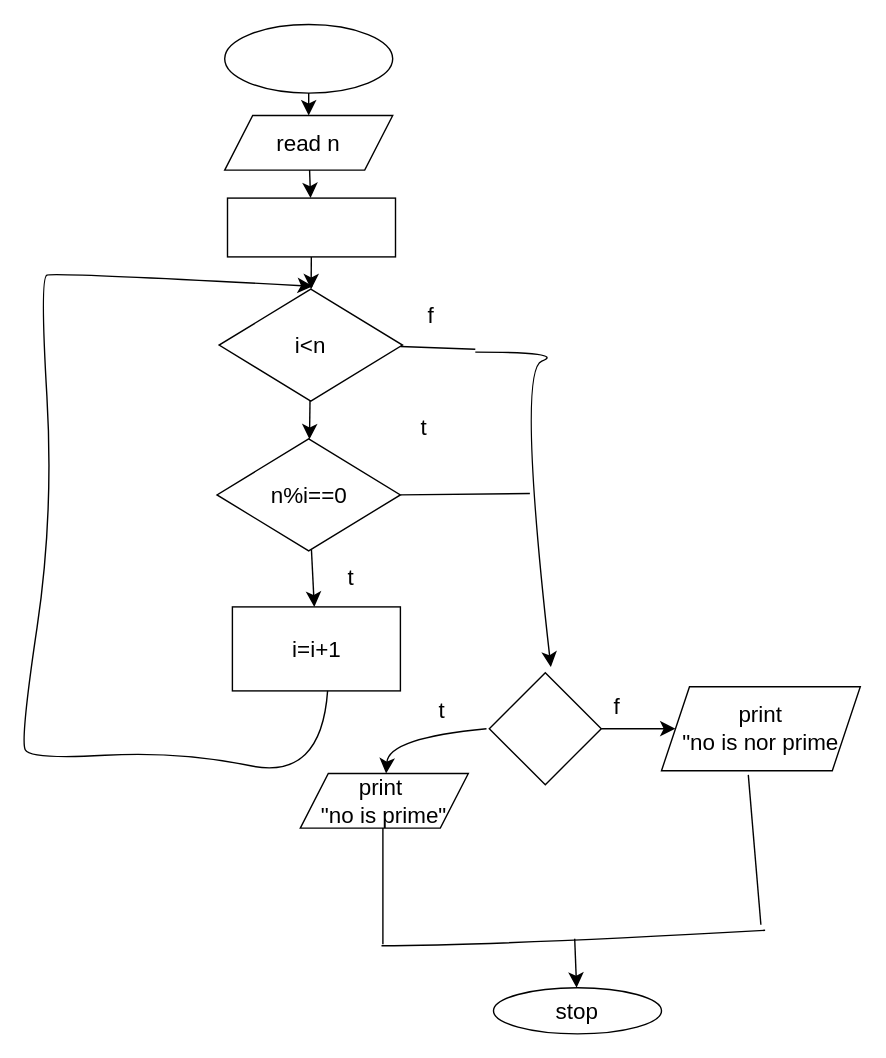
The diagram is 886 pixels wide and 1058 high, and some of its shapes have lost their labels. The shapes that lost their labels are listed below. From the top down, each one's centre as x and y in pixels, then its label:
[308,58]: start
[311,227]: i=2
[544,728]: i==n
